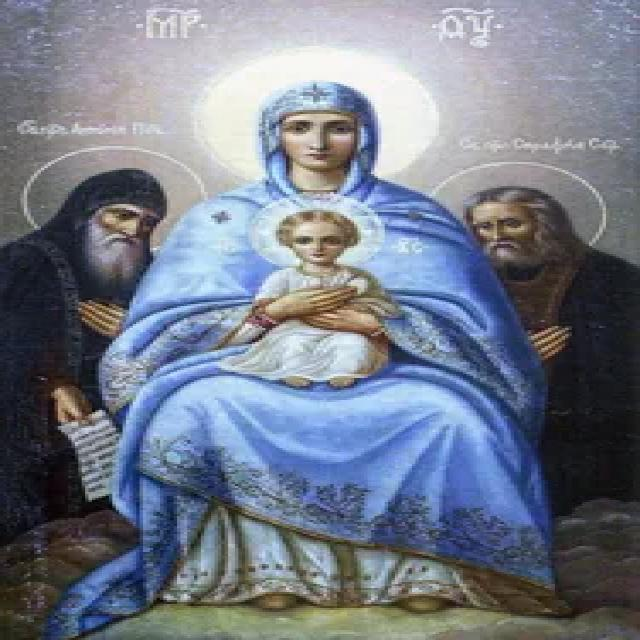mother of god: (115, 74, 544, 616)
